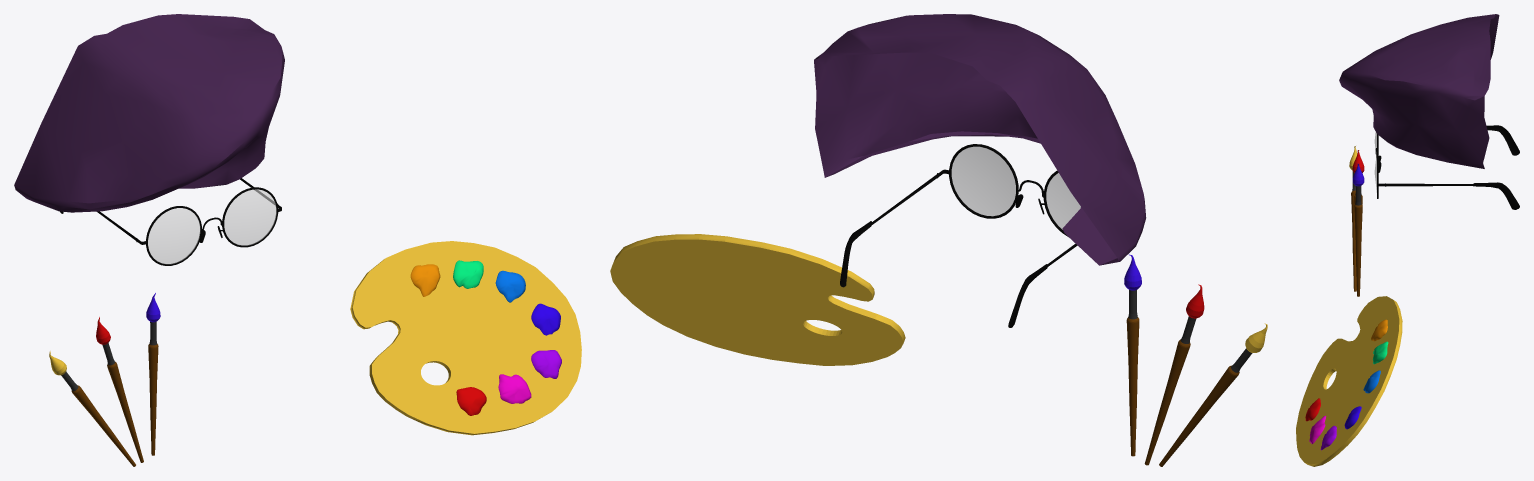
Rendered from museo.glb.
3 views of the same model, side by side, from view 1: azimuth 30°, elevation 25°; view 2: azimuth 150°, elevation 25°; view 3: azimuth 270°, elevation 25° (orthographic). The views are drawn at different scales.
Parts seen in each view (by area): view 1: beret, Base, Glasses, Circle.002, Circle.001, Circle, Color2, Color6, Color7, Color5, Color4, Color3 (+1 smaller); view 2: beret, Base, Glasses, Circle.002, Circle.001, Circle; view 3: beret, Base, Glasses, Circle.002, Circle, Glasses_2.001, Color2, Color6.
Part boxes in pixels (bbox=[...]): beret: bbox=[14, 14, 284, 212]; Base: bbox=[350, 241, 581, 435]; Glasses: bbox=[137, 178, 281, 265]; Circle.002: bbox=[146, 293, 160, 455]; Circle.001: bbox=[96, 317, 143, 462]; Circle: bbox=[49, 351, 135, 466]; Color2: bbox=[498, 374, 531, 403]; Color6: bbox=[453, 260, 483, 288]; Color7: bbox=[410, 264, 440, 296]; Color5: bbox=[495, 270, 525, 302]; Color4: bbox=[531, 303, 560, 335]; Color3: bbox=[531, 350, 561, 378]; beret: bbox=[814, 14, 1146, 265]; Base: bbox=[610, 234, 905, 365]; Glasses: bbox=[840, 144, 1080, 287]; Circle.002: bbox=[1124, 254, 1141, 456]; Circle.001: bbox=[1144, 284, 1204, 465]; Circle: bbox=[1159, 323, 1267, 466]; beret: bbox=[1339, 14, 1499, 168]; Base: bbox=[1296, 296, 1402, 466]; Glasses: bbox=[1374, 132, 1519, 209]; Circle.002: bbox=[1352, 163, 1364, 296]; Circle: bbox=[1349, 146, 1357, 291]; Glasses_2.001: bbox=[1486, 125, 1519, 155]; Color2: bbox=[1309, 415, 1326, 443]; Color6: bbox=[1372, 341, 1388, 364].
Size of the model in its own units: 3.24 by 2.3 by 1.44.
